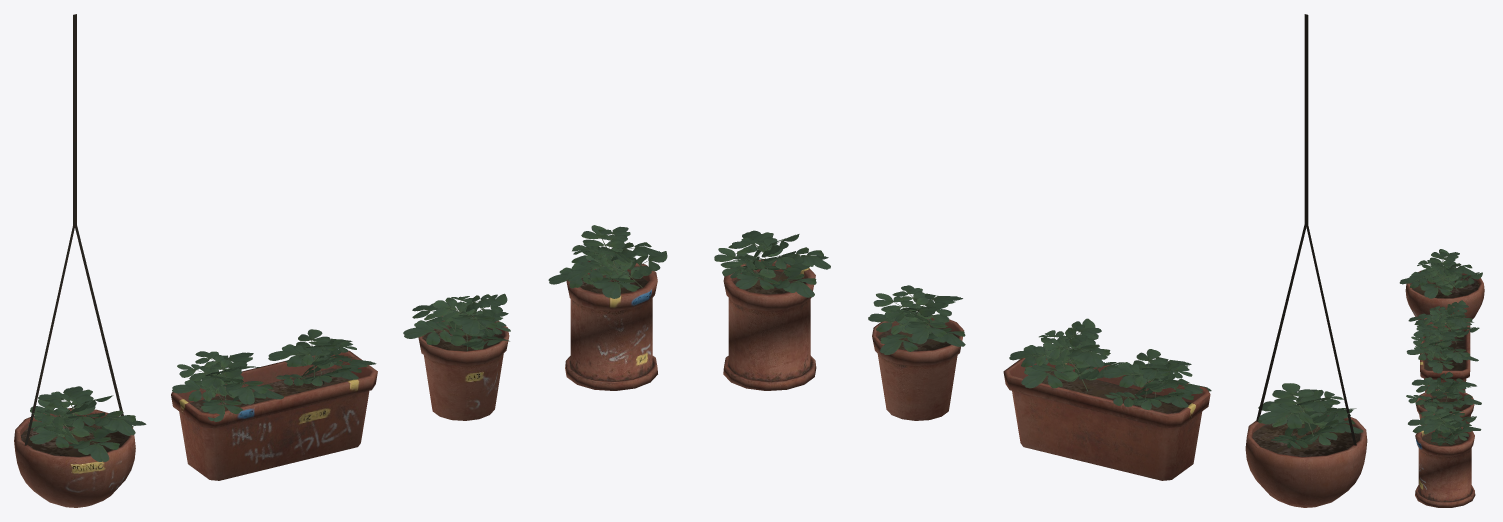
The model's file is Pot_Mesh.fbx.
3 renders of one model, left to right at view 1: azimuth 30°, elevation 25°; view 2: azimuth 150°, elevation 25°; view 3: azimuth 270°, elevation 25°, orthographic. The views are drawn at different scales.
Visible parts, largest first — view 1: pot_low.001, pot_low.003, pot_low.005, pot_low.004, Plane.202, Plane.139, Plane.154, Plane.172, Plane.166; view 2: pot_low.001, pot_low.003, pot_low.005, pot_low.004, Plane.139, Plane.166, Plane.202, Plane.154, Plane.172; view 3: pot_low.005, Plane.202, pot_low.003, Plane.139, Plane.166, Plane.154, Plane.172, pot_low.001, pot_low.004.
Part boxes in pixels (<box>): pot_low.001: <box>171,350,377,480</box>; pot_low.003: <box>14,14,135,507</box>; pot_low.005: <box>565,261,657,390</box>; pot_low.004: <box>418,316,509,420</box>; Plane.202: <box>28,386,146,461</box>; Plane.139: <box>548,225,667,298</box>; Plane.154: <box>403,293,510,351</box>; Plane.172: <box>172,351,283,421</box>; Plane.166: <box>268,329,376,386</box>; pot_low.001: <box>1003,358,1210,480</box>; pot_low.003: <box>1245,14,1367,507</box>; pot_low.005: <box>723,259,816,390</box>; pot_low.004: <box>872,315,964,420</box>; Plane.139: <box>714,230,830,297</box>; Plane.166: <box>1009,318,1123,391</box>; Plane.202: <box>1258,383,1363,449</box>; Plane.154: <box>868,285,965,354</box>; Plane.172: <box>1102,349,1211,409</box>; pot_low.005: <box>1415,427,1475,507</box>; Plane.202: <box>1399,249,1482,298</box>; pot_low.003: <box>1405,268,1484,319</box>; Plane.139: <box>1408,406,1481,445</box>; Plane.166: <box>1406,329,1478,373</box>; Plane.154: <box>1406,372,1481,411</box>; Plane.172: <box>1408,300,1479,344</box>; pot_low.001: <box>1420,317,1470,391</box>; pot_low.004: <box>1415,389,1474,426</box>.
Size of the model in its own units: 120 by 86.03 by 22.56.
